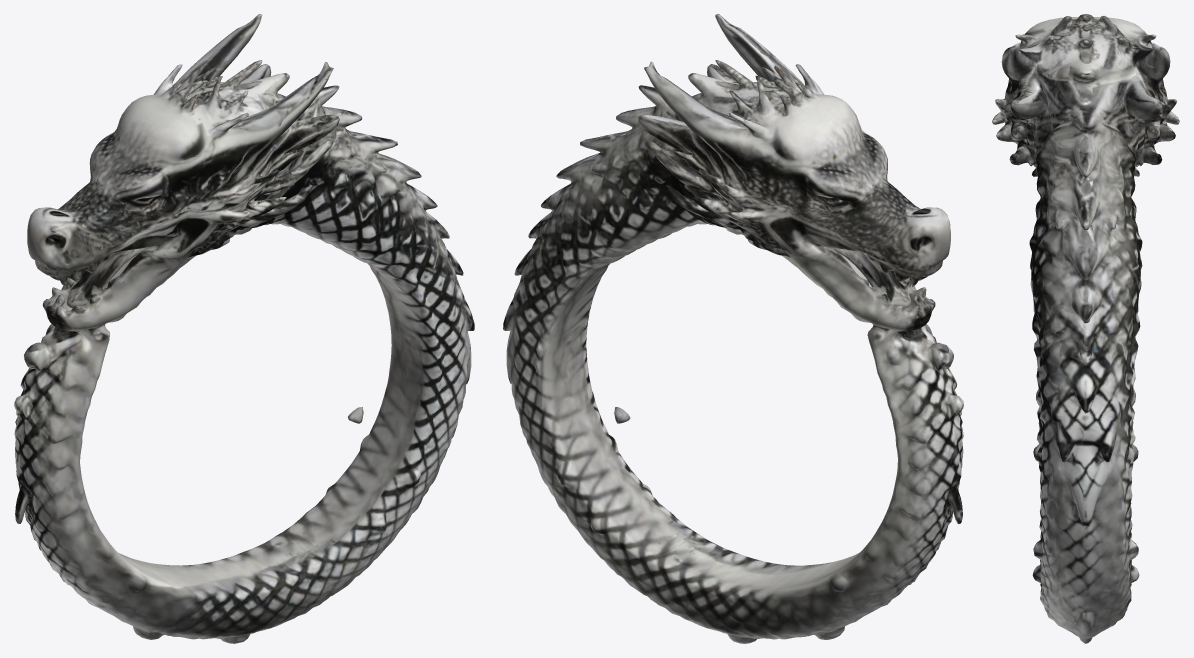
File: dragon-ring.gltf
3 renders of one model, left to right at view 1: azimuth 30°, elevation 25°; view 2: azimuth 150°, elevation 25°; view 3: azimuth 270°, elevation 25°, orthographic. The views are drawn at different scales.
Parts seen in each view (by area): view 1: Node #0; view 2: Node #0; view 3: Node #0.
Part boxes in pixels (box(x1,y1,x2,y2)): Node #0: box(14, 14, 474, 643); Node #0: box(503, 14, 963, 643); Node #0: box(992, 14, 1179, 643).
Bounding box in the file's own units: 1.62 × 2.01 × 0.5649.
1 material, 1 textured.
